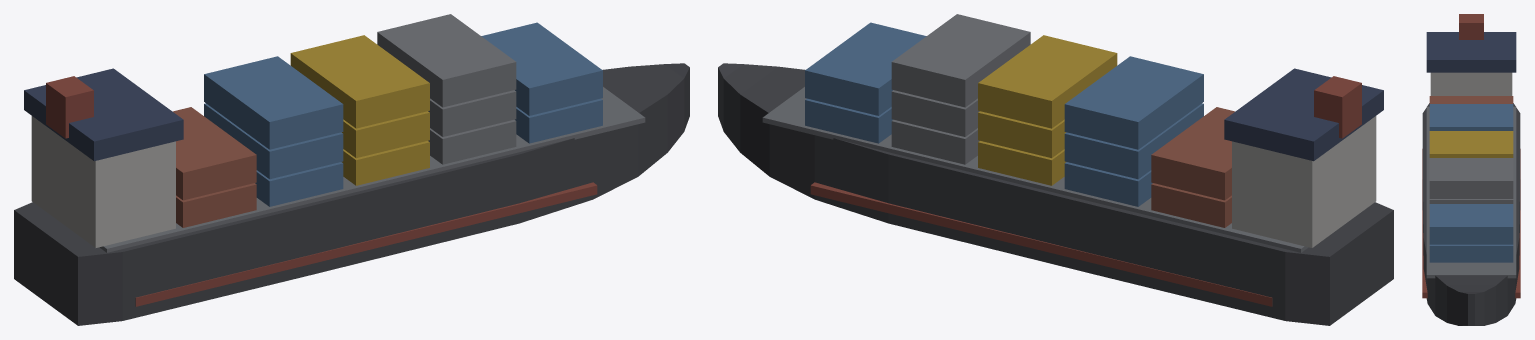
Rendered from port_ship_boxa_lvl1.glb.
3 renders of one model, left to right at view 1: azimuth 30°, elevation 25°; view 2: azimuth 150°, elevation 25°; view 3: azimuth 270°, elevation 25°, orthographic. The views are drawn at different scales.
Visible parts, largest first — view 1: port_ship_boxa; view 2: port_ship_boxa; view 3: port_ship_boxa.
Part boxes in pixels (box(x1,y1,x2,y2)): port_ship_boxa: box(14, 14, 689, 325); port_ship_boxa: box(718, 14, 1393, 325); port_ship_boxa: box(1422, 14, 1520, 325).
Size of the model in its own units: 0.3726 by 0.1167 by 0.0775.
